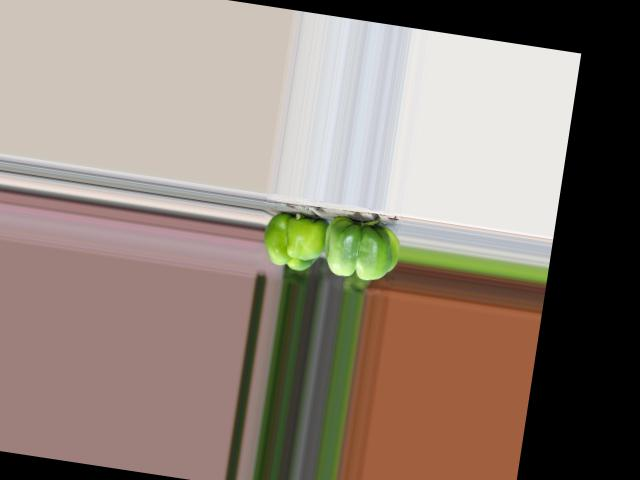bell_pepper: (257, 204, 330, 276)
